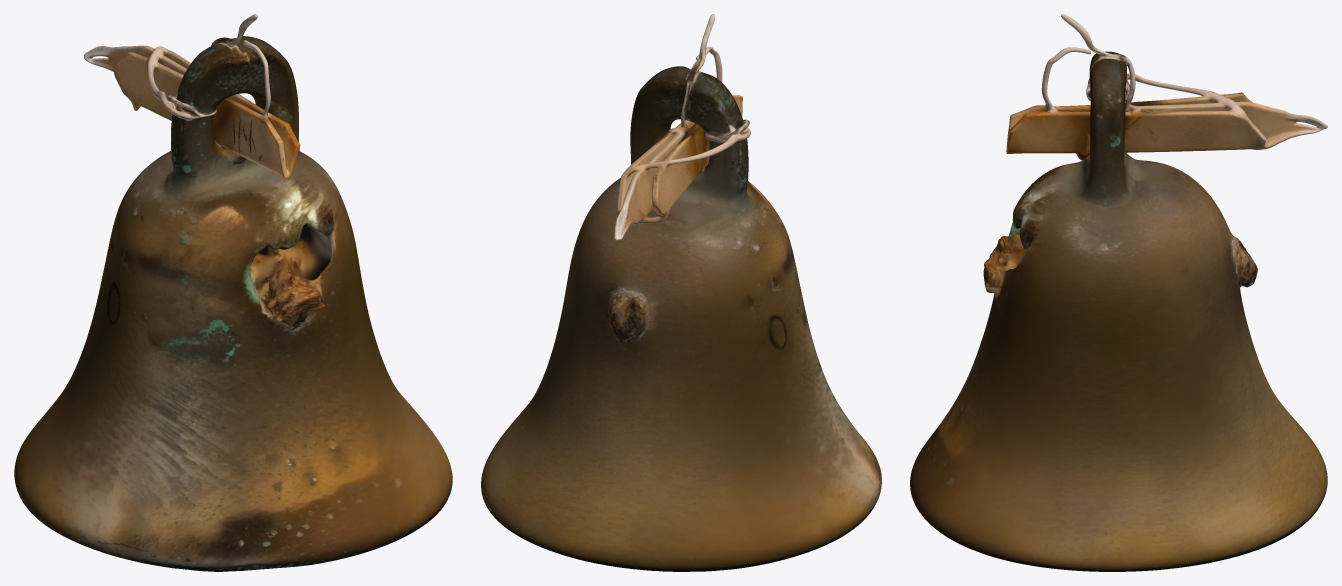
File: 013-starinnyy-bronzovyy-kolokolchik.glb
3 views of the same model, side by side, from view 1: azimuth 30°, elevation 25°; view 2: azimuth 150°, elevation 25°; view 3: azimuth 270°, elevation 25° (orthographic). The views are drawn at different scales.
Visible parts, largest first — view 1: node_0; view 2: node_0; view 3: node_0.
Part boxes in pixels (bbox=[...]): node_0: bbox=[14, 14, 452, 571]; node_0: bbox=[481, 14, 881, 571]; node_0: bbox=[910, 14, 1327, 571].
Bounding box in the file's own units: 0.7562 × 0.9719 × 0.7636.
Materials: 1 (1 with a texture image).
